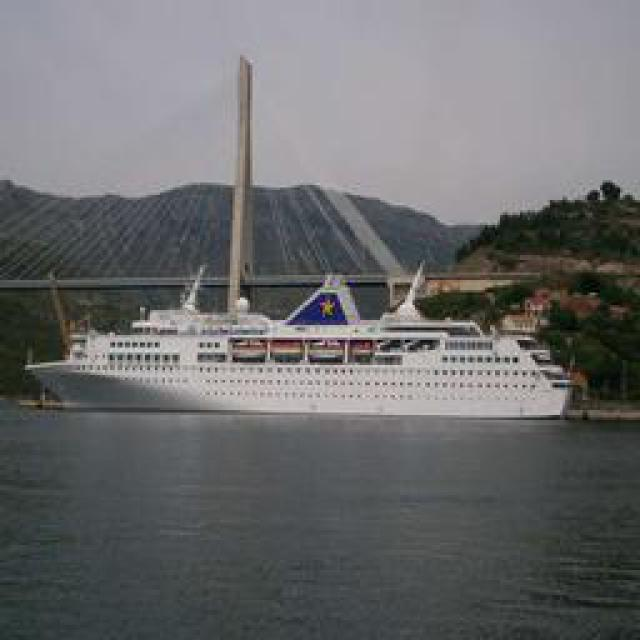Ship: (32, 266, 572, 419)
